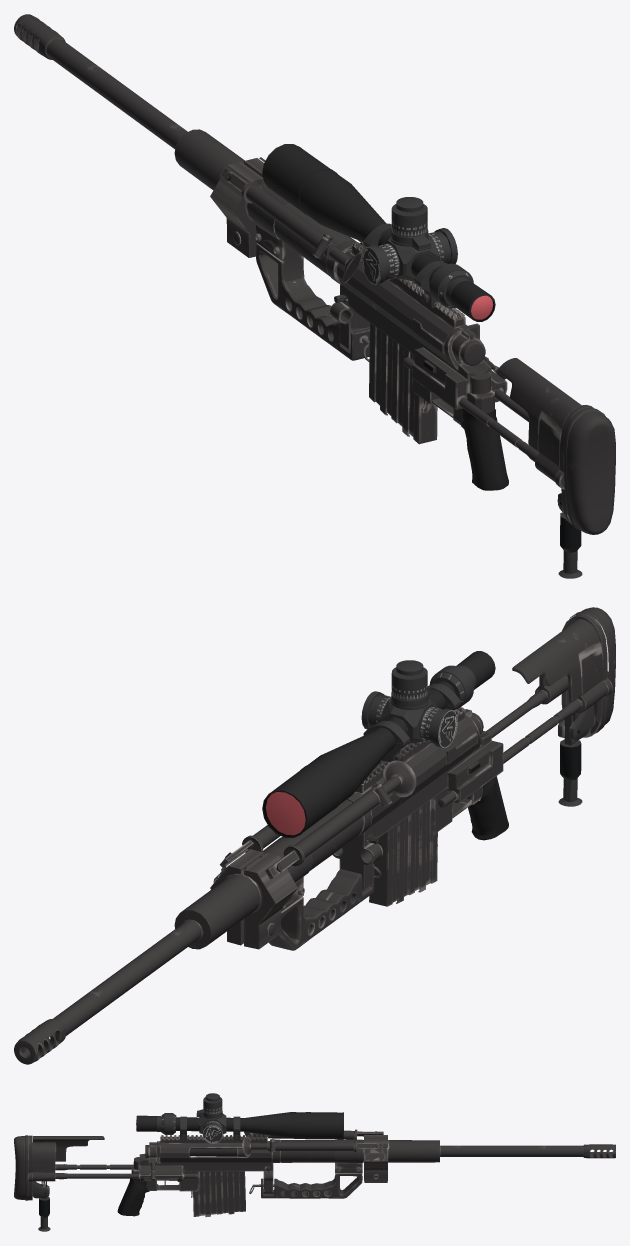
Rendered from ssg_cheytac.glb.
3 renders of one model, top to bottom at view 1: azimuth 30°, elevation 25°; view 2: azimuth 150°, elevation 25°; view 3: azimuth 270°, elevation 25°, orthographic. The views are drawn at different scales.
Visible parts, largest first — view 1: Frame; view 2: Frame; view 3: Frame.
Boxes of the visible parts, left/top/right/bottom form: Frame: left=14, top=14, right=615, bottom=578; Frame: left=14, top=607, right=615, bottom=1064; Frame: left=14, top=1093, right=615, bottom=1231.
Bounding box in the file's own units: 0.0726 × 0.2208 × 0.9038.
1 material, 1 textured.
